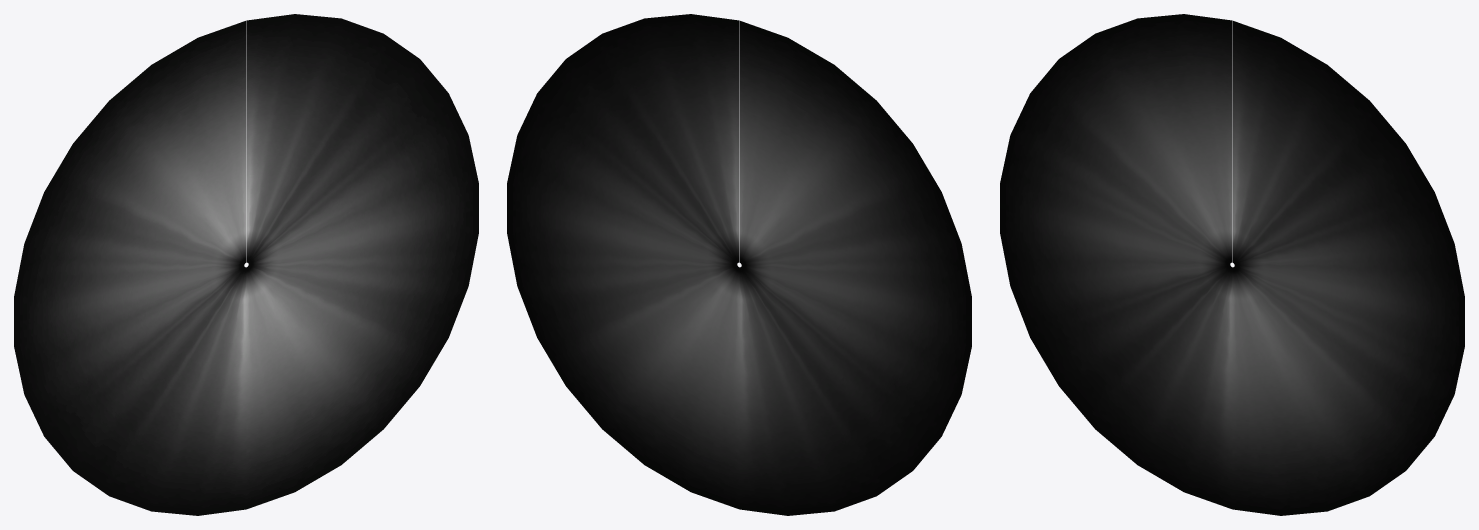
Rendered from Effect_FlashLight.fbx.
The picture shows the model from 3 angles, left to right: view 1: azimuth 30°, elevation 25°; view 2: azimuth 150°, elevation 25°; view 3: azimuth 330°, elevation 25°; orthographic projection.
Parts seen in each view (by area): view 1: SM_Impulsion_Wave_01.mo; view 2: SM_Impulsion_Wave_01.mo; view 3: SM_Impulsion_Wave_01.mo.
Part boxes in pixels (left/top/right/bottom): SM_Impulsion_Wave_01.mo: left=14, top=14, right=478, bottom=515; SM_Impulsion_Wave_01.mo: left=507, top=14, right=971, bottom=515; SM_Impulsion_Wave_01.mo: left=1000, top=14, right=1464, bottom=515.
Bounding box in the file's own units: 88.97 × 89.46 × 3.89e-06.
